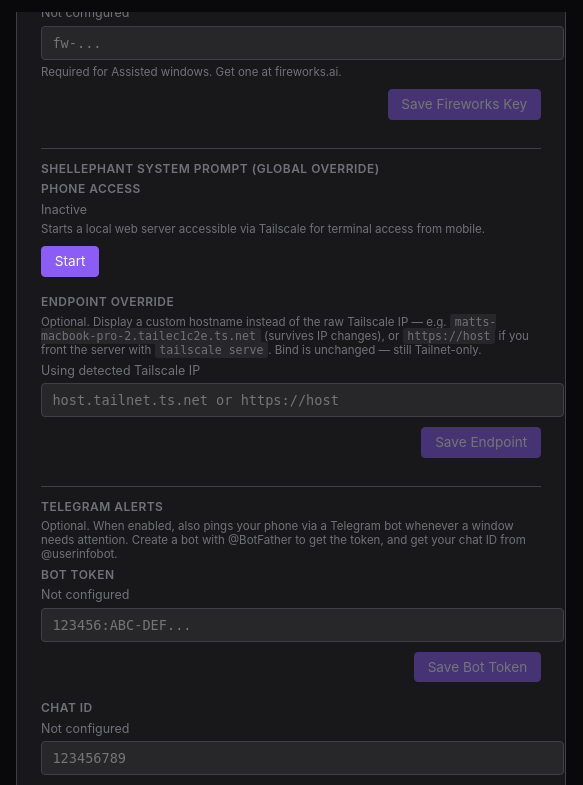
Test: SettingsView › Phone Access section › shows error when start fails
Click the button with aria-label "Phone Access". click: (70, 262)
box: [41,246,99,277]
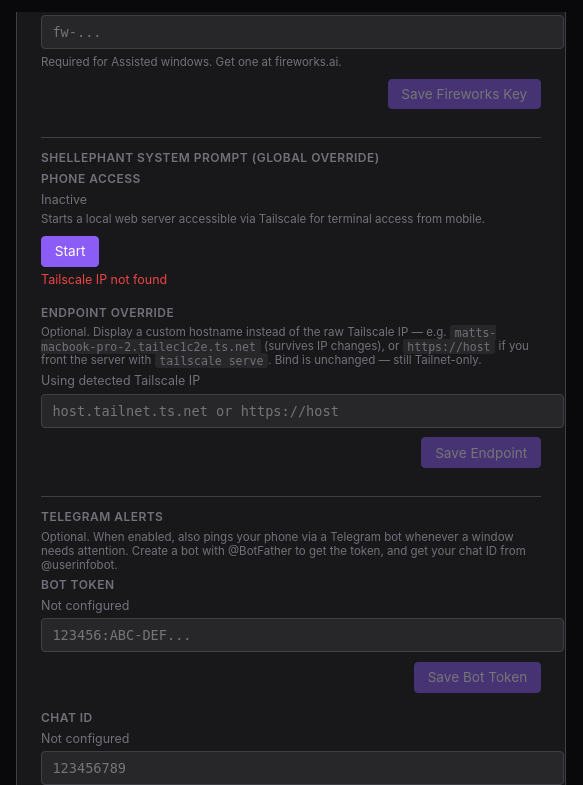
Expected: the text "Tailscale IP not found" is shown, [41,272,167,287]
